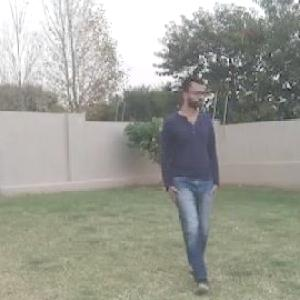follow: (168, 73, 220, 279)
